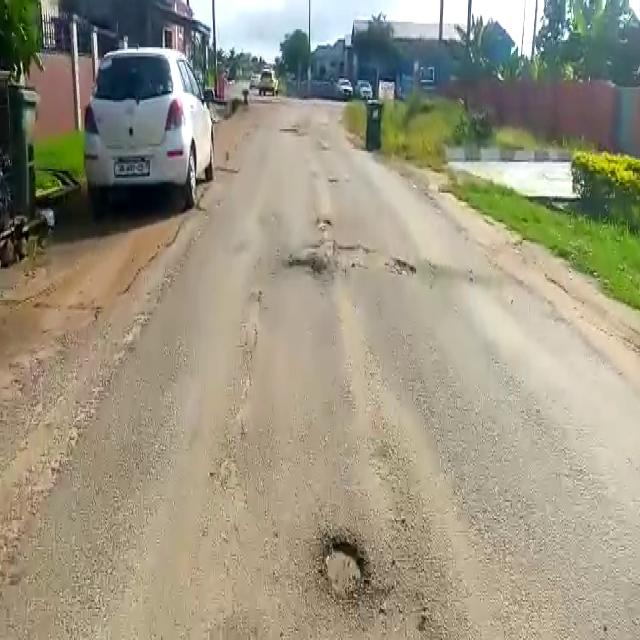Pothole: (318, 532, 374, 603), (331, 238, 417, 280), (285, 251, 328, 274)
